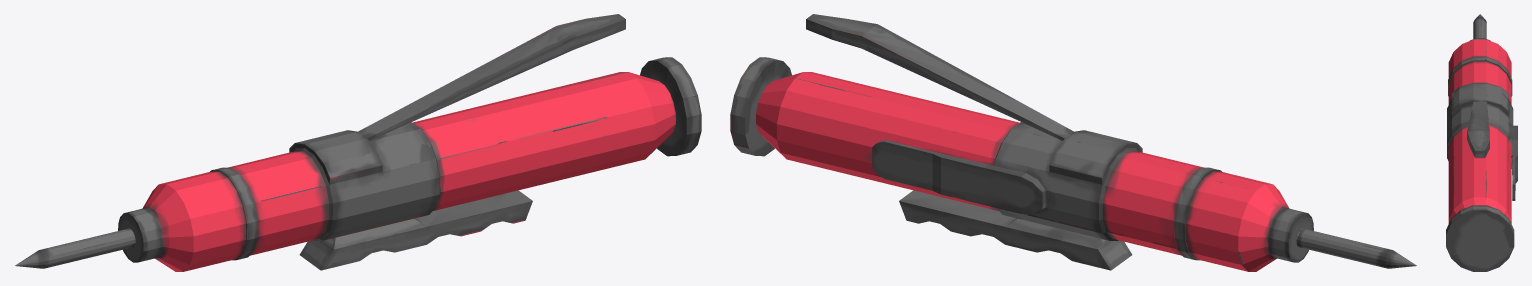
Rendered from LifeSeringer.fbx.
3 renders of one model, left to right at view 1: azimuth 30°, elevation 25°; view 2: azimuth 150°, elevation 25°; view 3: azimuth 270°, elevation 25°, orthographic. The views are drawn at different scales.
Visible parts, largest first — view 1: Cilindro; view 2: Cilindro; view 3: Cilindro.
Boxes of the visible parts, x1,y1,x2,y2 form: Cilindro: (15, 14, 701, 271); Cilindro: (730, 14, 1416, 271); Cilindro: (1446, 14, 1517, 271).
Size of the model in its own units: 483 by 118 by 64.7.
1 material, 1 textured.
